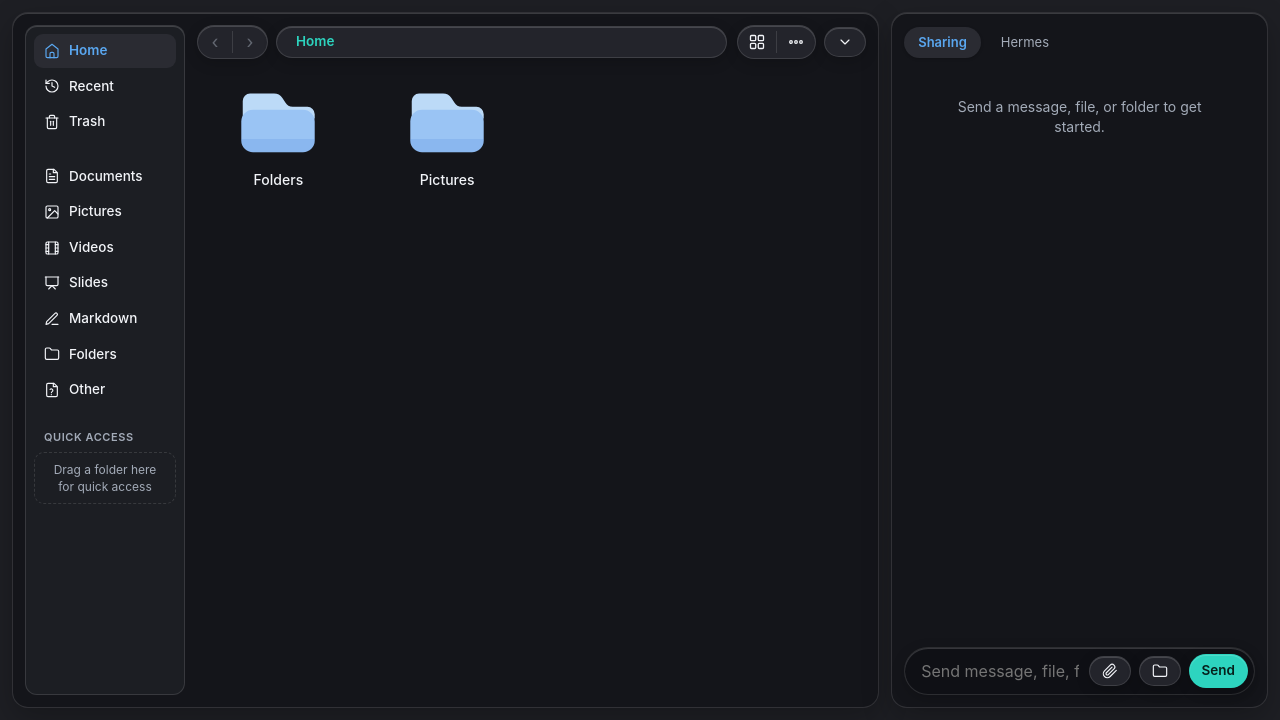
Test: PrivyCloudTab file-system sharing › navigates into a folder when its tile is clicked
Double-click the 1st button titled "Open Pictures" at (447, 149), box top-left (366, 67), bottom-right (529, 231)
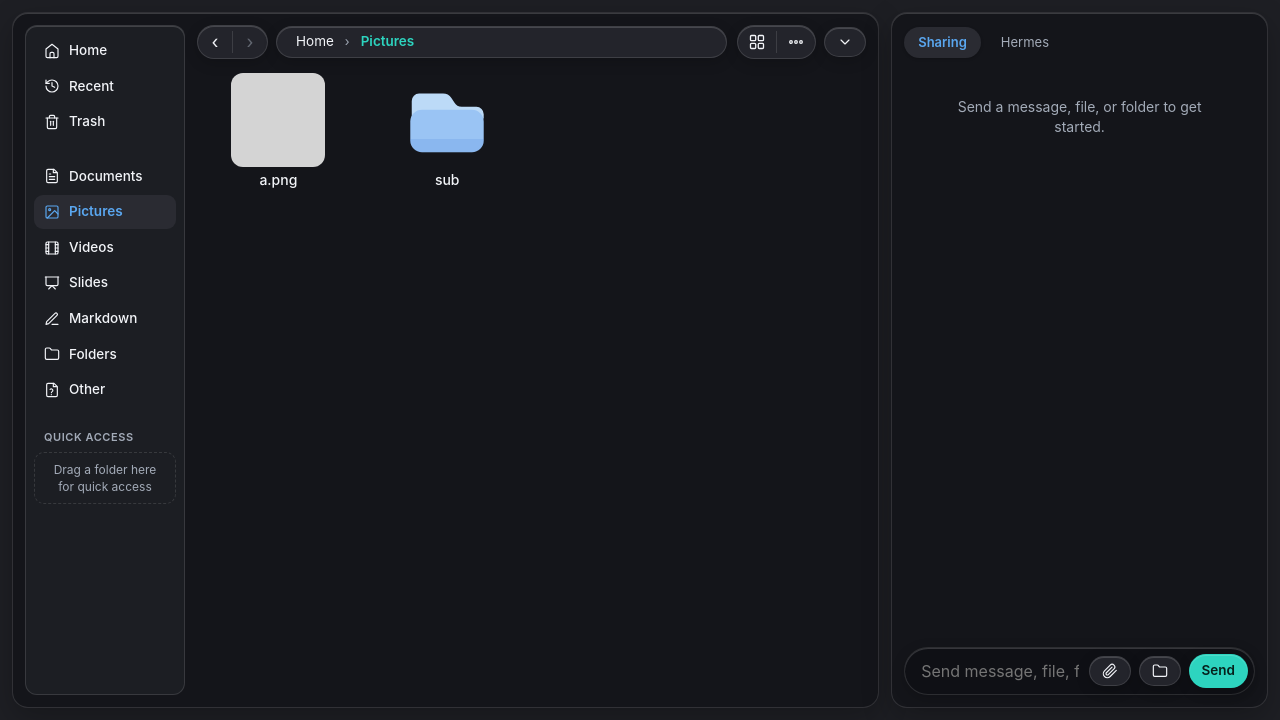
expect the button "a.png" is shown: met, box top-left (197, 67), bottom-right (360, 231)
expect the button titled "Open sub" is shown: met, box top-left (366, 67), bottom-right (529, 231)
